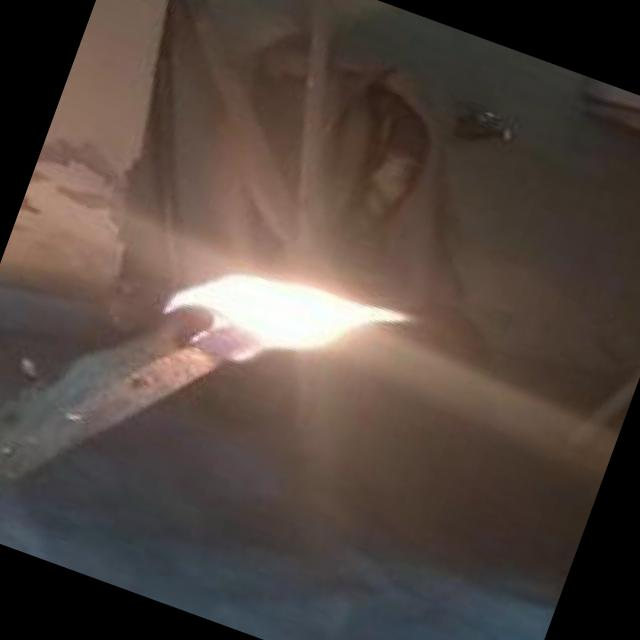fire: (138, 205, 450, 436)
